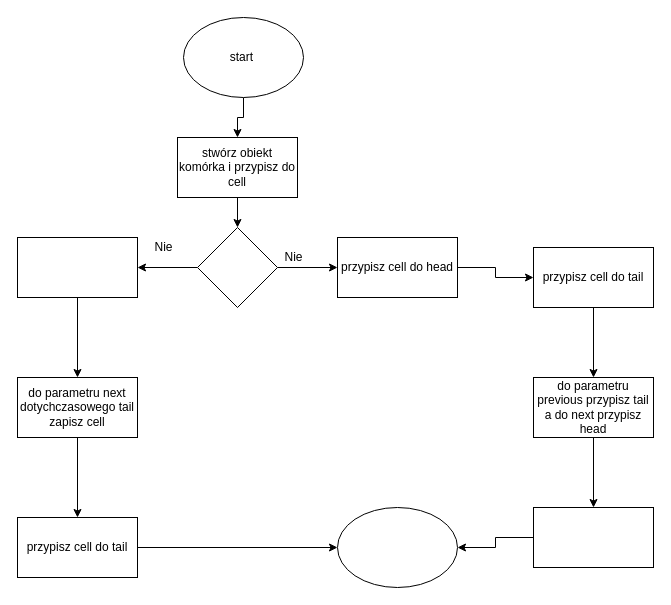
Some shapes in this 671 by 605 pixel diagram are drawn without their labels. The centre of each missing label's shape, as x and y in pixels:
Czy head istnieje?: (237,267)
do parametru previous cell przypisz tail: (77,267)
end: (397,547)
tail do parametru previous wartownika, a head do parametru next wartownika: (593,537)
